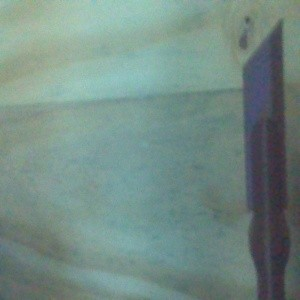cutter: (239, 19, 291, 300)
